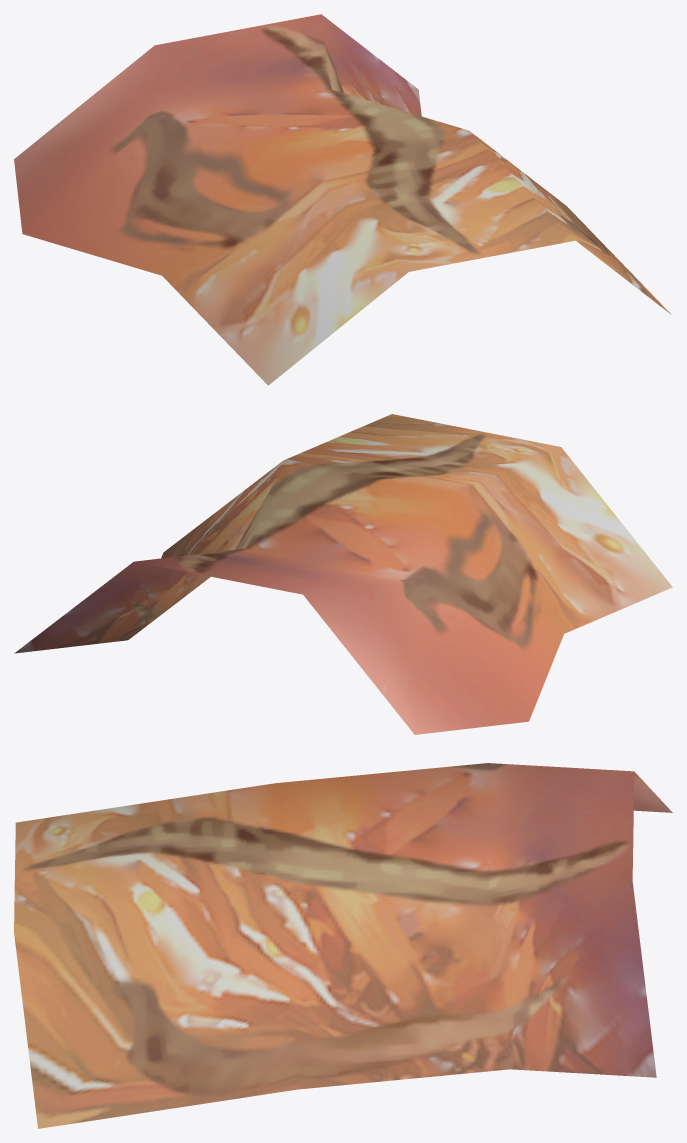
The model's file is lairKvar04.fbx.
The picture shows the model from 3 angles, top to bottom: view 1: azimuth 30°, elevation 25°; view 2: azimuth 150°, elevation 25°; view 3: azimuth 270°, elevation 25°; orthographic projection. The views are drawn at different scales.
Visible parts, largest first — view 1: lairKvar04_LOD0; view 2: lairKvar04_LOD0; view 3: lairKvar04_LOD0.
Part boxes in pixels (<box>): lairKvar04_LOD0: <box>14,14,671,385</box>; lairKvar04_LOD0: <box>14,414,672,734</box>; lairKvar04_LOD0: <box>14,763,672,1128</box>.
Size of what is drawn, in the model's own units: 0.2074 by 0.0699 by 0.215.
